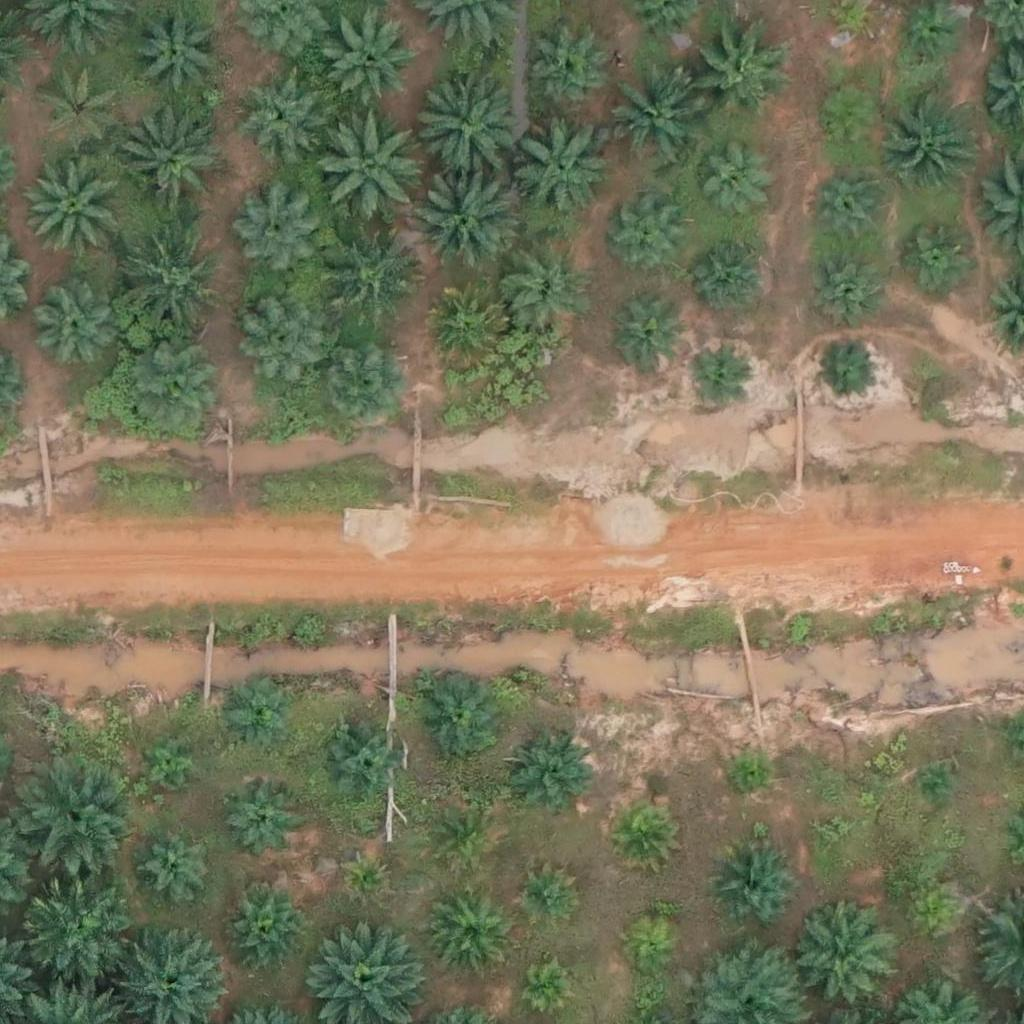Kelapa_Sawit: (24, 880, 137, 993), (16, 763, 129, 876), (411, 163, 524, 276), (403, 67, 516, 180), (311, 109, 423, 223), (111, 232, 223, 345), (797, 911, 897, 1012), (686, 23, 786, 124), (600, 72, 700, 173), (510, 120, 610, 221), (318, 225, 418, 326), (120, 118, 220, 219), (24, 158, 124, 259), (885, 89, 985, 190), (129, 345, 229, 445), (710, 840, 798, 928), (316, 717, 404, 805), (222, 884, 310, 972), (799, 245, 887, 333), (418, 283, 506, 371), (328, 21, 416, 109), (230, 189, 318, 277), (241, 296, 328, 385), (39, 64, 126, 153), (417, 673, 504, 761), (426, 888, 513, 976), (809, 164, 896, 252), (526, 30, 613, 118), (503, 250, 590, 338), (319, 342, 406, 430), (231, 67, 318, 155), (134, 6, 221, 94), (36, 286, 123, 374), (513, 741, 588, 817), (222, 783, 297, 859), (692, 147, 767, 223), (694, 235, 769, 311), (812, 82, 887, 158), (900, 217, 975, 292), (612, 202, 687, 277), (610, 302, 685, 377), (224, 680, 287, 743), (613, 801, 676, 864), (683, 343, 746, 406), (145, 835, 207, 898), (816, 339, 878, 402), (436, 807, 498, 870), (623, 920, 673, 971), (525, 963, 575, 1013), (520, 871, 570, 921), (147, 740, 197, 790), (915, 771, 953, 809), (729, 755, 766, 793), (905, 890, 942, 927), (344, 856, 381, 893), (818, 818, 843, 844)
